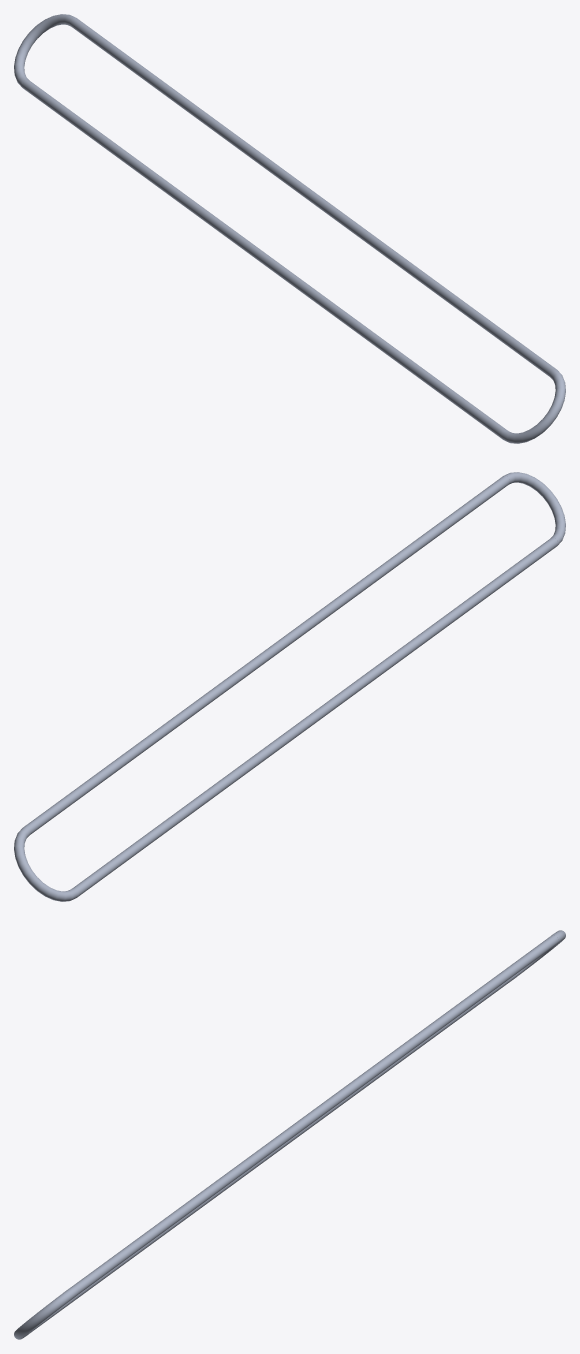
Rendered from antenna.dae.
The picture shows the model from 3 angles, top to bottom: view 1: azimuth 30°, elevation 25°; view 2: azimuth 150°, elevation 25°; view 3: azimuth 330°, elevation 25°; orthographic projection.
Visible parts, largest first — view 1: Body_1; view 2: Body_1; view 3: Body_1.
Boxes of the visible parts, left/top/right/bottom form: Body_1: left=14, top=14, right=565, bottom=443; Body_1: left=14, top=472, right=565, bottom=901; Body_1: left=14, top=930, right=565, bottom=1339.
Size of the model in its own units: 0.061 by 0.9706 by 0.061.
